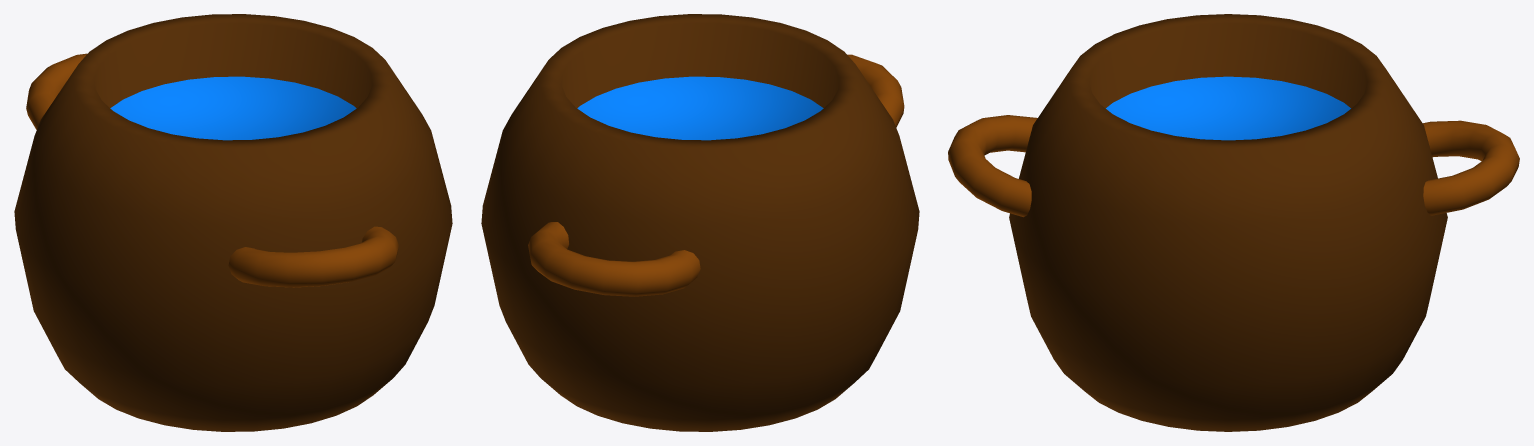
File: Pan.fbx
3 views of the same model, side by side, from view 1: azimuth 30°, elevation 25°; view 2: azimuth 150°, elevation 25°; view 3: azimuth 270°, elevation 25° (orthographic).
Parts seen in each view (by area): view 1: Pan; view 2: Pan; view 3: Pan.
Boxes of the visible parts, x1,y1,x2,y2 form: Pan: (14, 14, 452, 431); Pan: (481, 14, 919, 431); Pan: (948, 14, 1519, 431).
Bounding box in the file's own units: 48.29 × 34.53 × 62.95.
